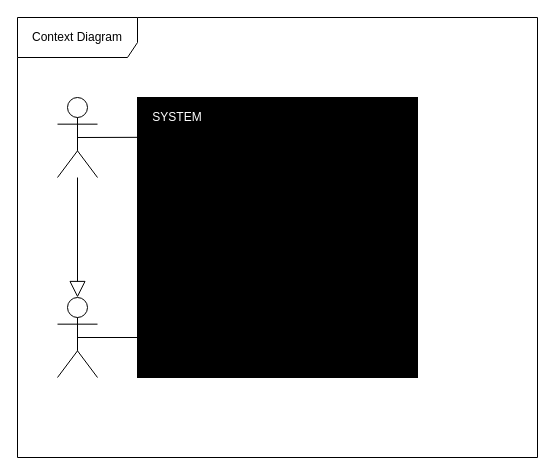
Some shapes in this 555 by 475 pixel diagram are drawn without their labels. The centre of each missing label's shape, as x and y in pixels:
"Admin" belongs at (x=77, y=137).
"Client" belongs at (x=77, y=337).
